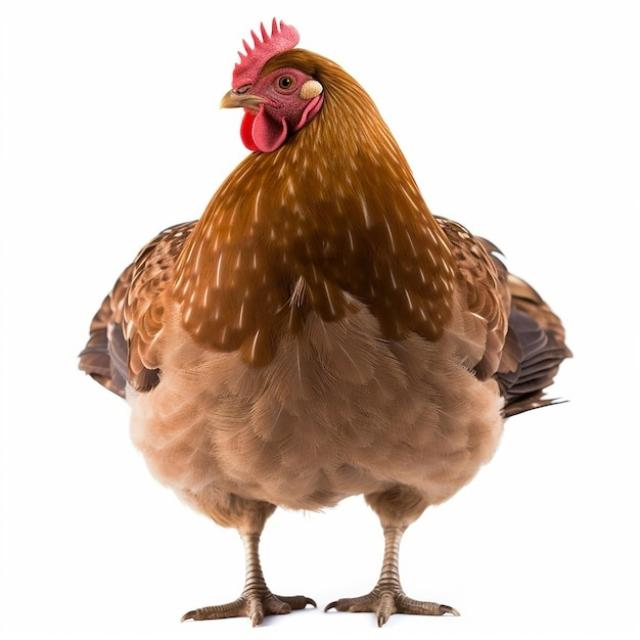Chicken: (79, 14, 572, 627)
